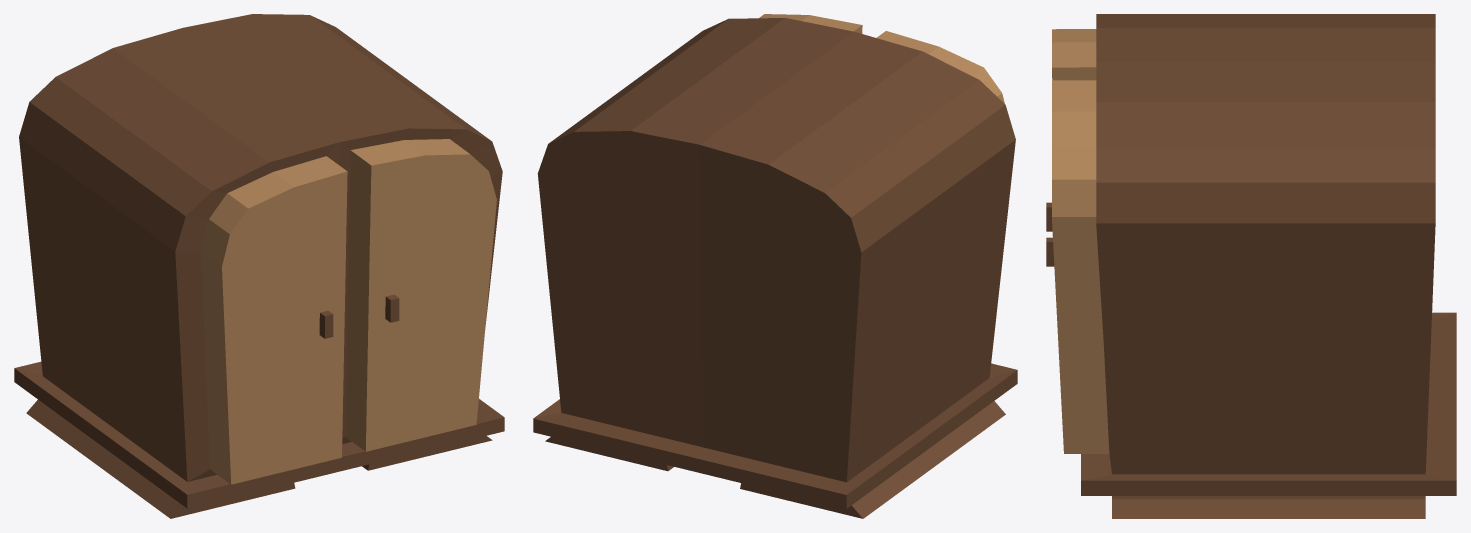
File: qt-closet.glb
The picture shows the model from 3 angles, left to right: view 1: azimuth 30°, elevation 25°; view 2: azimuth 150°, elevation 25°; view 3: azimuth 270°, elevation 25°; orthographic projection. The views are drawn at different scales.
Visible parts, largest first — view 1: Closet1_Cube; view 2: Closet1_Cube; view 3: Closet1_Cube.
Boxes of the visible parts, x1,y1,x2,y2 form: Closet1_Cube: (14, 14, 504, 518); Closet1_Cube: (533, 14, 1017, 518); Closet1_Cube: (1046, 14, 1456, 518).
Size of the model in its own units: 1 by 1 by 1.
